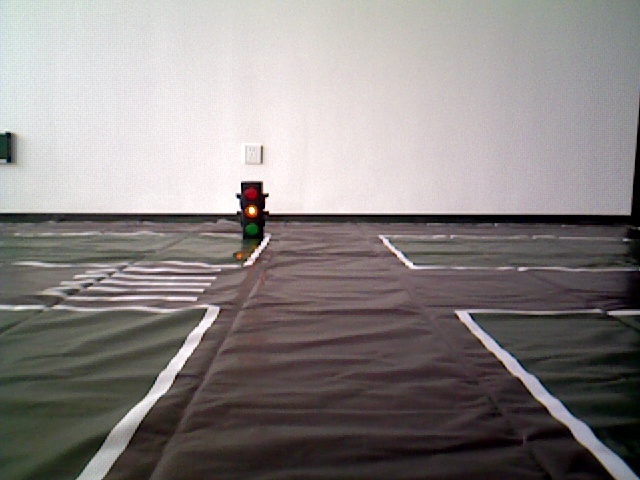yellow: (237, 179, 265, 243)
